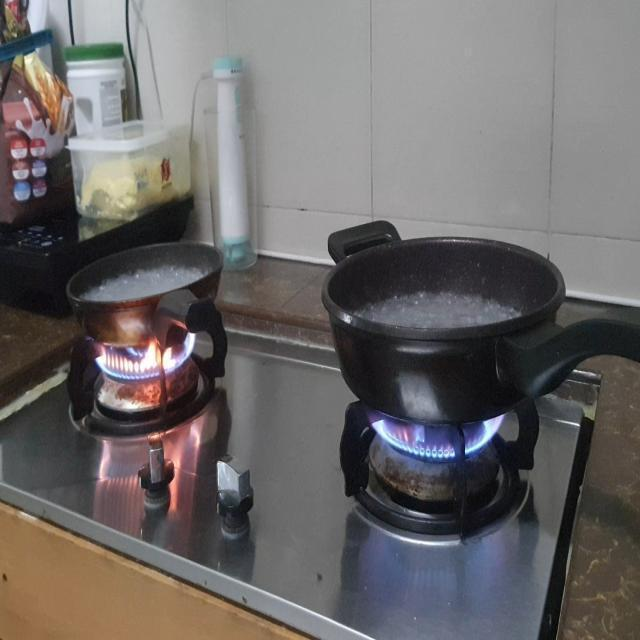smoke: (366, 400, 506, 461), (91, 330, 198, 380)
